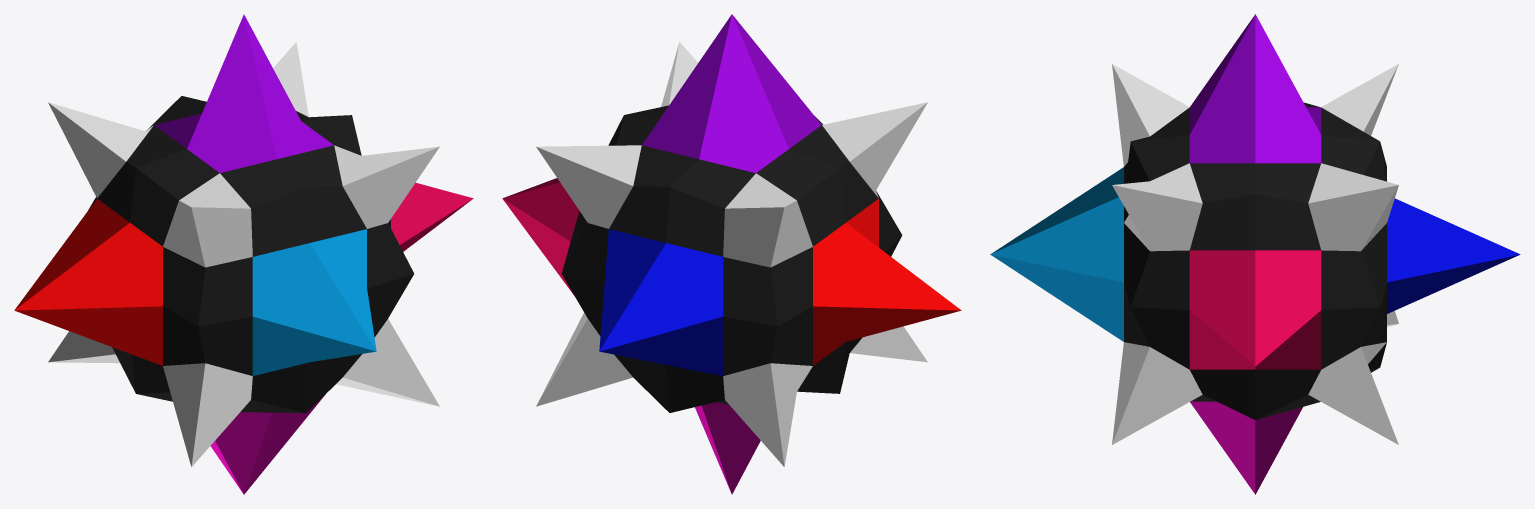
Rendered from skillpoint.fbx.
The picture shows the model from 3 angles, left to right: view 1: azimuth 30°, elevation 25°; view 2: azimuth 150°, elevation 25°; view 3: azimuth 270°, elevation 25°; orthographic projection.
Parts seen in each view (by area): view 1: Cube; view 2: Cube; view 3: Cube.
Part boxes in pixels (<box>): Cube: <box>14,14,473,494</box>; Cube: <box>502,14,961,494</box>; Cube: <box>990,14,1520,494</box>.
Bounding box in the file's own units: 403 × 403 × 403.
